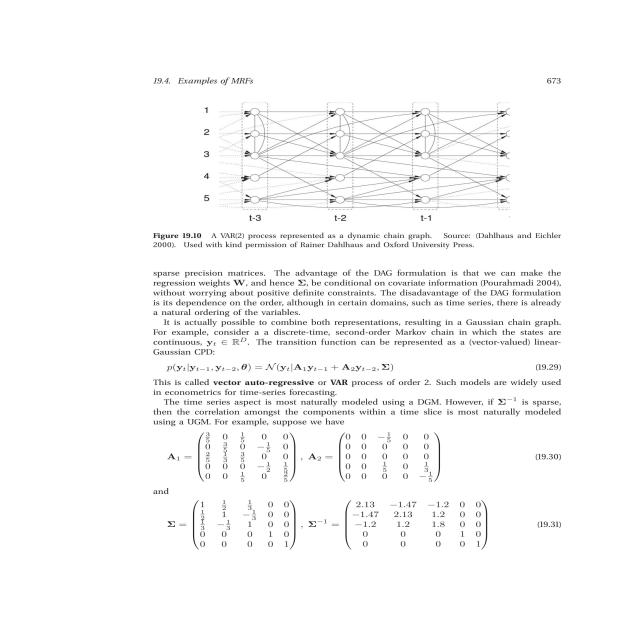diagram: (124, 96, 596, 262)
